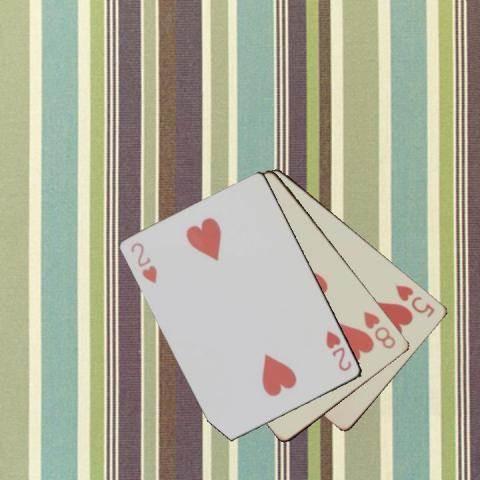2h: (128, 240, 159, 286), (324, 328, 354, 374)
5h: (392, 282, 436, 320)
8h: (361, 308, 398, 351)
